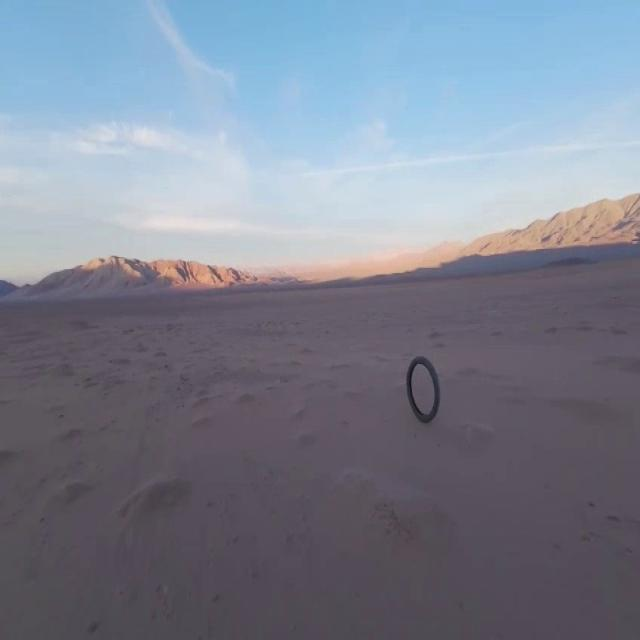Tire: (407, 356, 441, 422)
